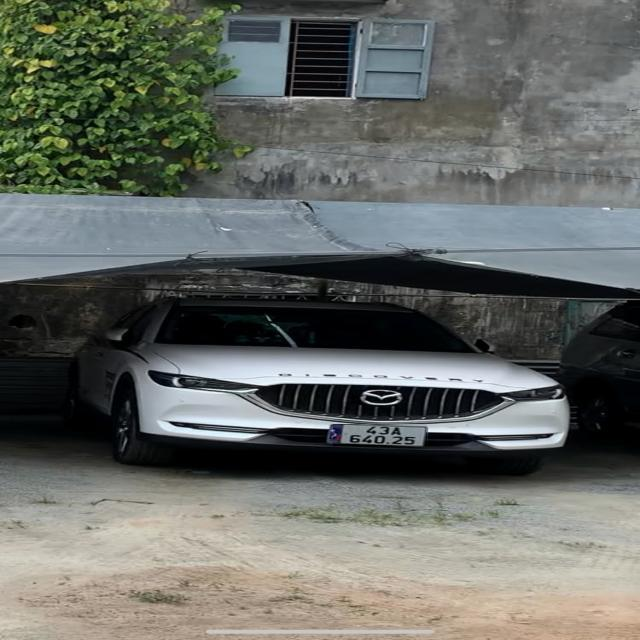car: (64, 290, 575, 490)
plate: (317, 413, 436, 455)
